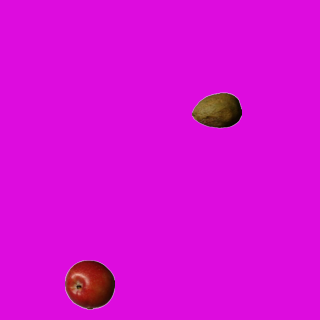Apple Braeburn: (64, 259, 114, 309)
Papaya: (191, 85, 241, 135)
